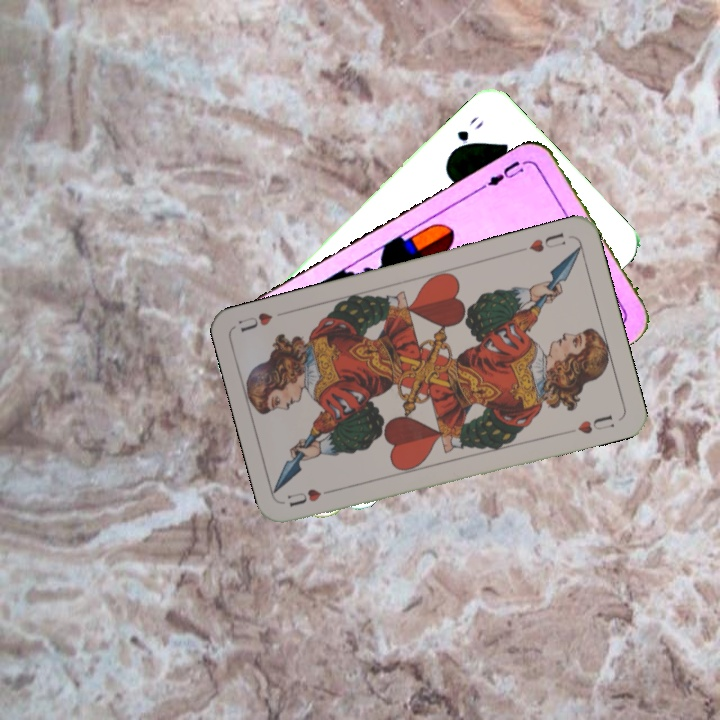EU: (480, 156, 527, 190)
GO: (446, 112, 487, 157)
HU: (283, 484, 340, 510), (524, 228, 568, 255)
